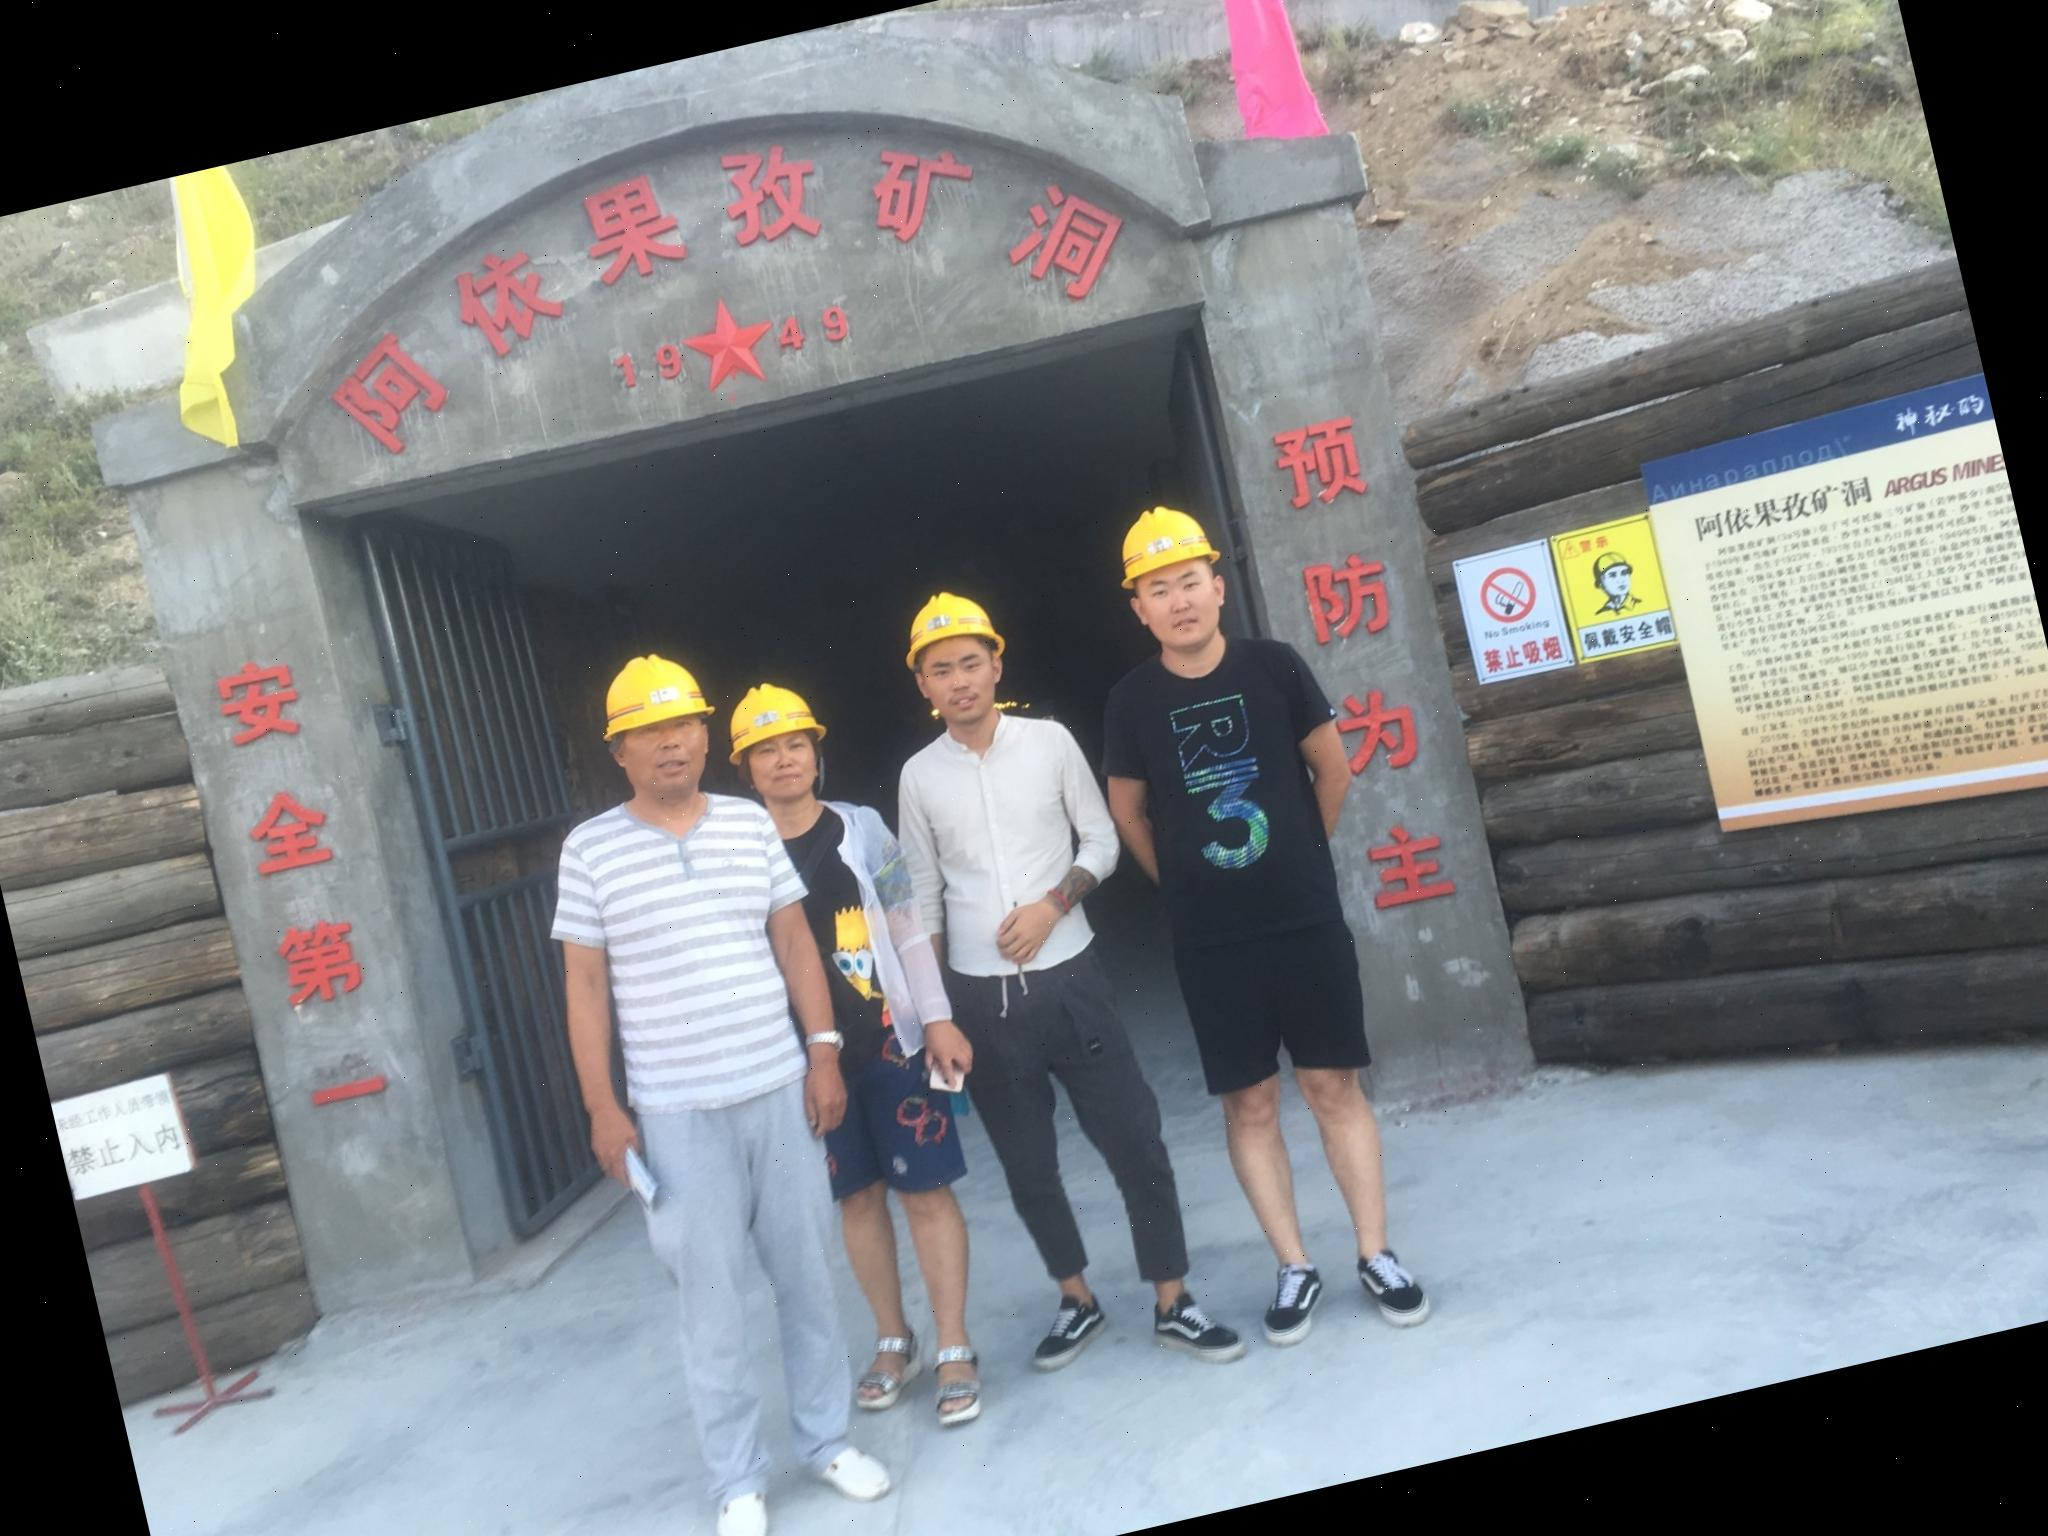helmet: (584, 637, 714, 744), (1098, 495, 1221, 595), (892, 574, 1013, 673), (719, 671, 832, 765)
no_wear: (558, 781, 834, 1126), (1103, 637, 1342, 950), (887, 715, 1114, 991), (756, 776, 955, 1073)
